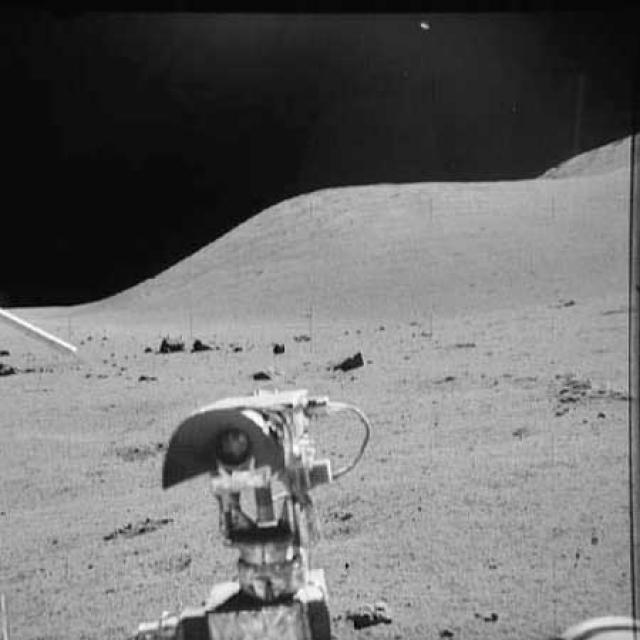artifact: (132, 380, 393, 638), (1, 298, 78, 367), (550, 603, 638, 639), (320, 350, 373, 374), (152, 326, 182, 354), (186, 331, 210, 354)
crater: (420, 360, 538, 391), (100, 508, 175, 536)
rock: (339, 592, 394, 632), (266, 336, 286, 354)
